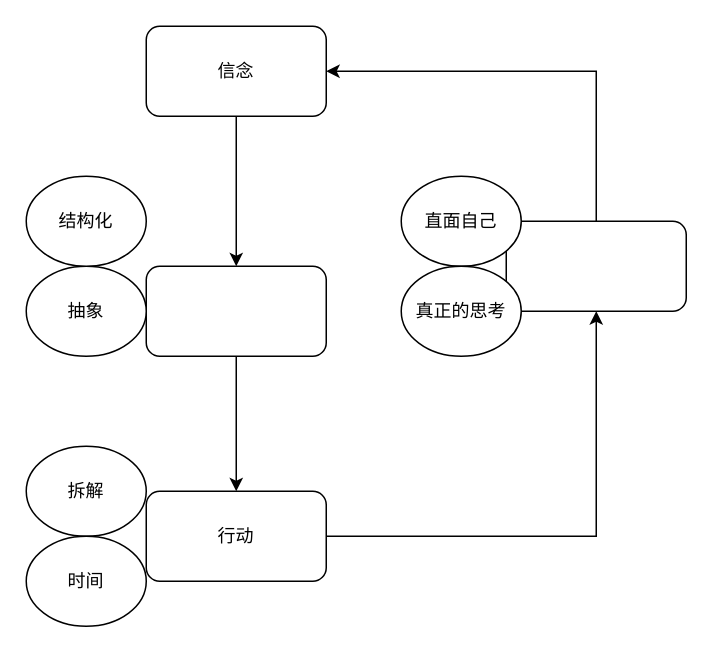
Image size: 713x653. Some labels were removed from this diagram. Each missing label, with the centre of its shape:
"复盘" goes at pixel 595 265.
"模型" goes at pixel 235 310.
